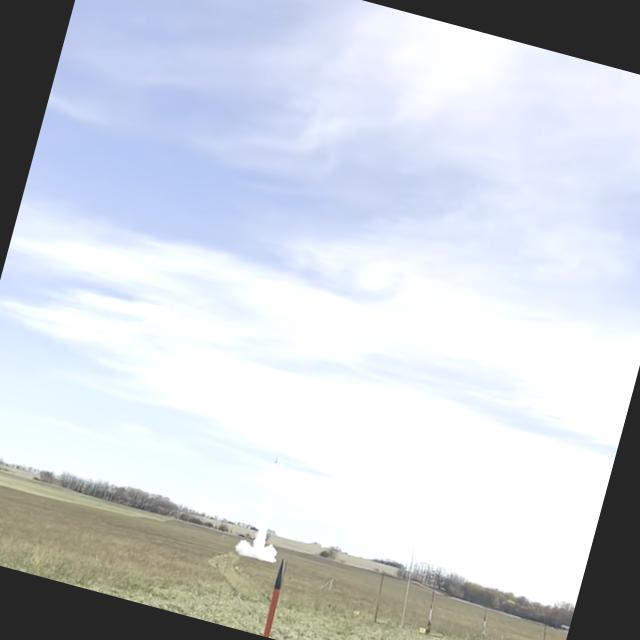smoke_trail_with_rocket: (234, 455, 279, 563)
